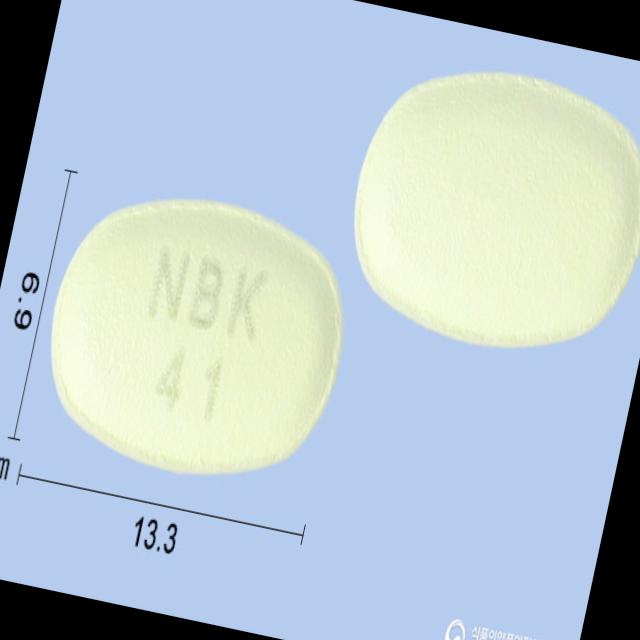Lathrocin: (25, 171, 368, 499)
